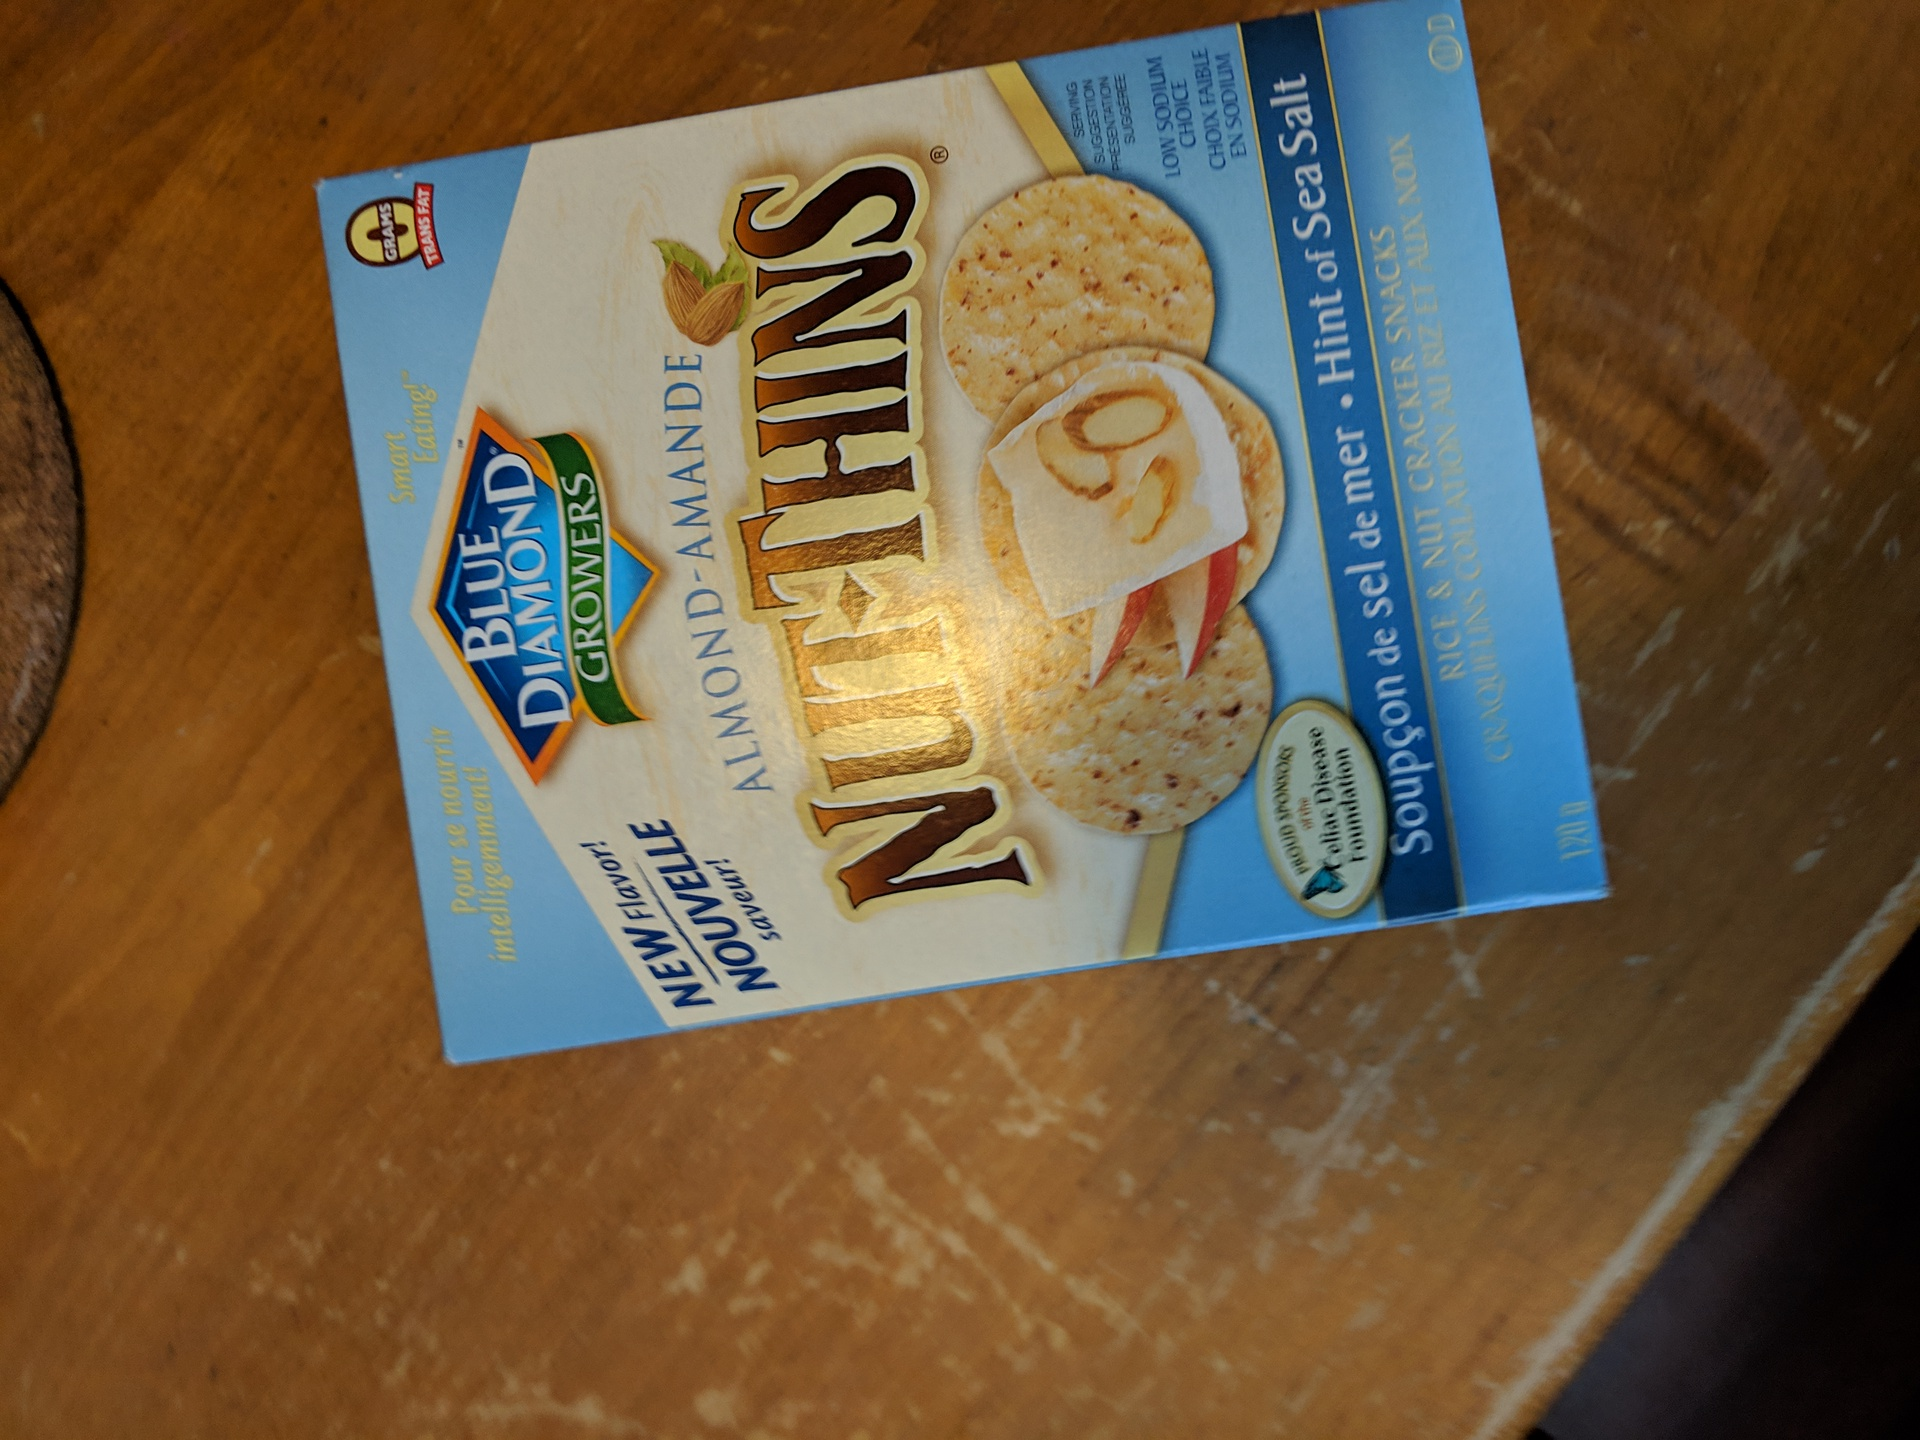blue_diamond_nut_thins_almond_seasalt: (373, 82, 1559, 948)
